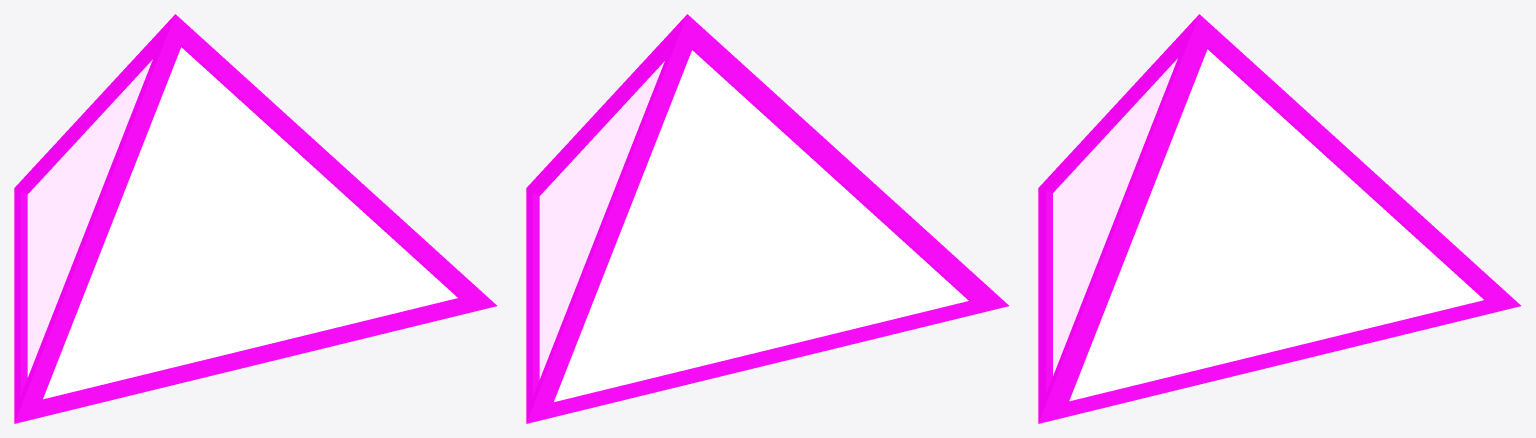
The model's file is SFI0310015.fbx.
3 renders of one model, left to right at view 1: azimuth 30°, elevation 25°; view 2: azimuth 150°, elevation 25°; view 3: azimuth 270°, elevation 25°, orthographic.
Parts seen in each view (by area): view 1: smSFI0310015; view 2: smSFI0310015; view 3: smSFI0310015.
Boxes of the visible parts, left/top/right/bottom form: smSFI0310015: left=14, top=14, right=496, bottom=423; smSFI0310015: left=526, top=14, right=1008, bottom=423; smSFI0310015: left=1038, top=14, right=1520, bottom=423.
Bounding box in the file's own units: 173 × 100 × 150.
